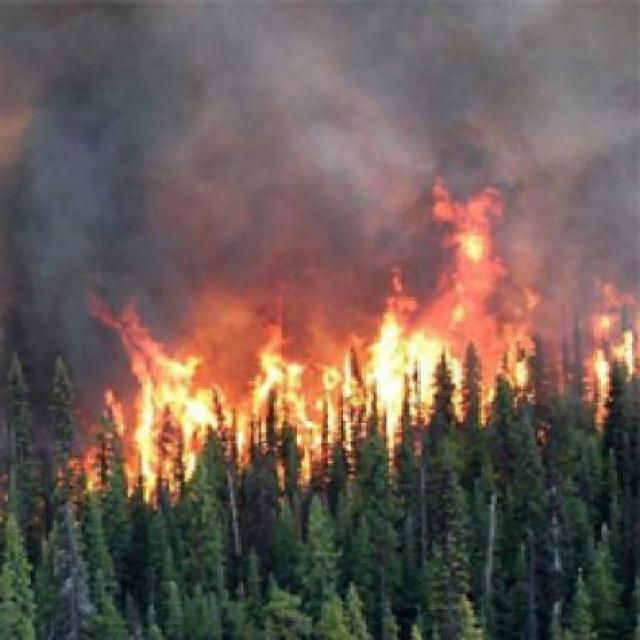Fire: (73, 290, 478, 517)
Smoke: (0, 0, 635, 278)
